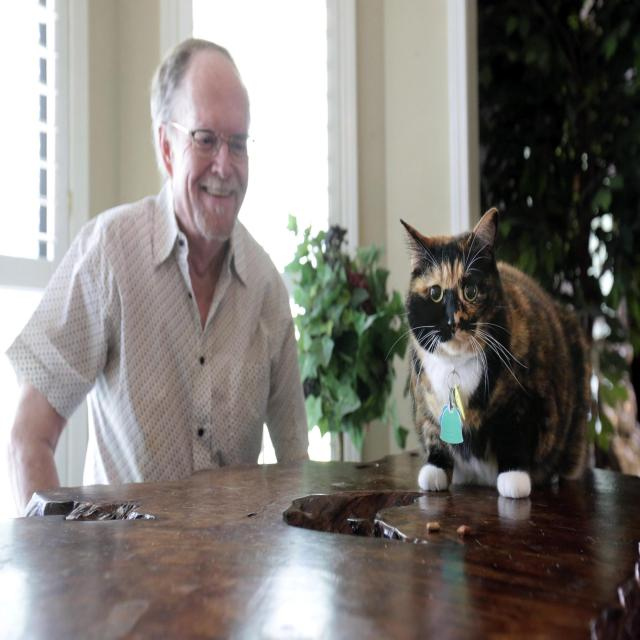Cat: (396, 206, 509, 369)
